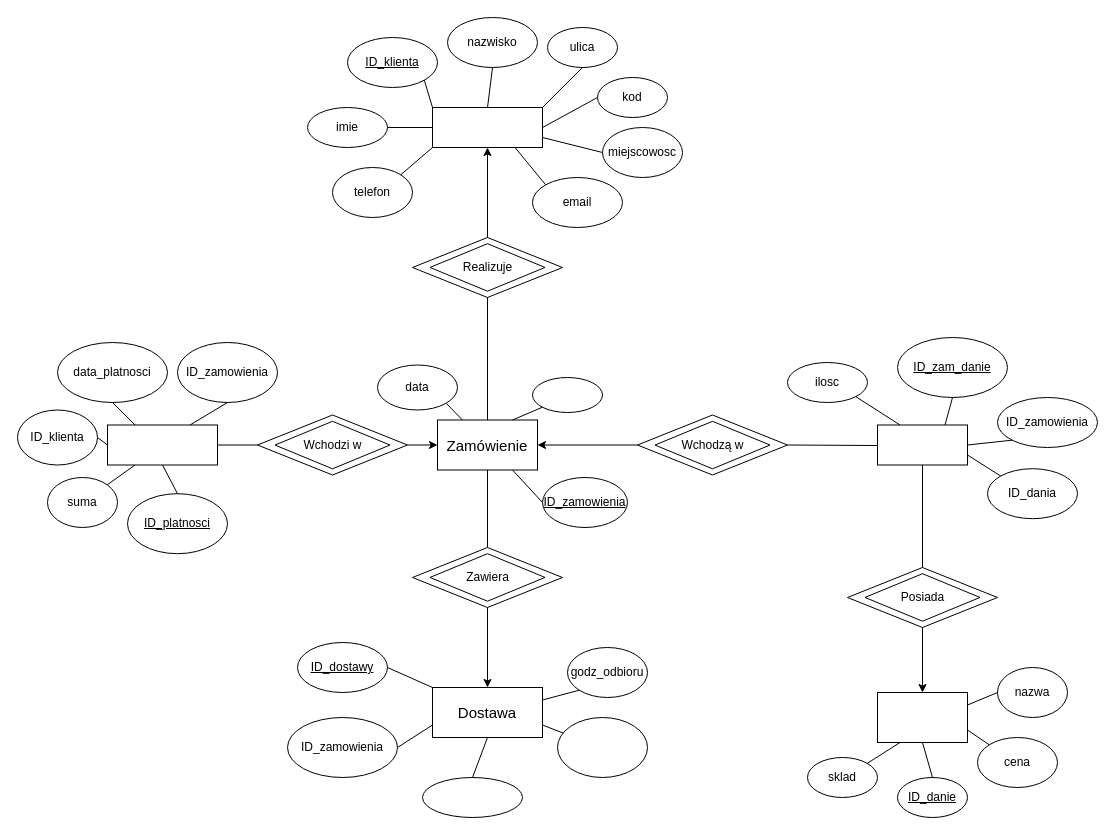
Some shapes in this 1115 by 835 pixel diagram are drawn without their labels. The box of each missing label's shape, as (x1, y1, x2, y2) in pixels:
czas: (532, 376, 602, 412)
Danie: (876, 692, 968, 742)
data_odbioru: (556, 716, 648, 778)
Klient: (432, 106, 542, 148)
Płatność: (106, 424, 218, 465)
status: (422, 776, 522, 818)
Szczegóły: (876, 424, 968, 465)
